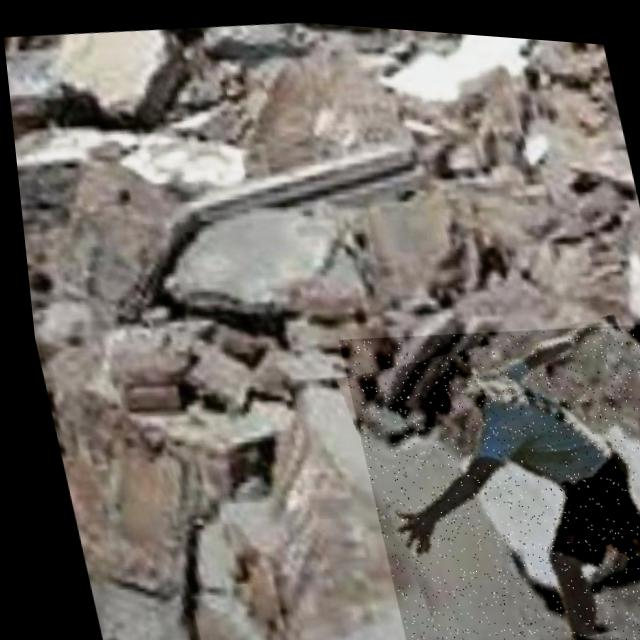Person in Rubble: (328, 295, 640, 640)
